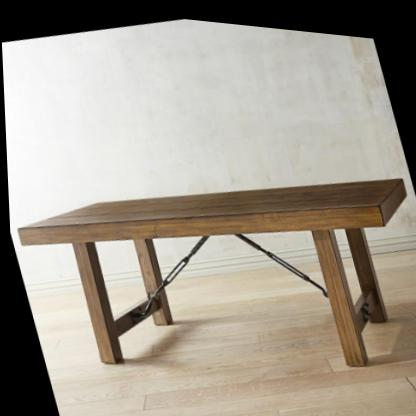Table: (4, 112, 416, 416)
Wooden floor: (44, 280, 416, 416)
